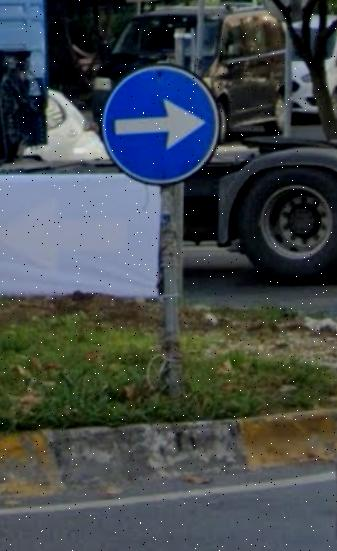turnright: (107, 72, 214, 180)
